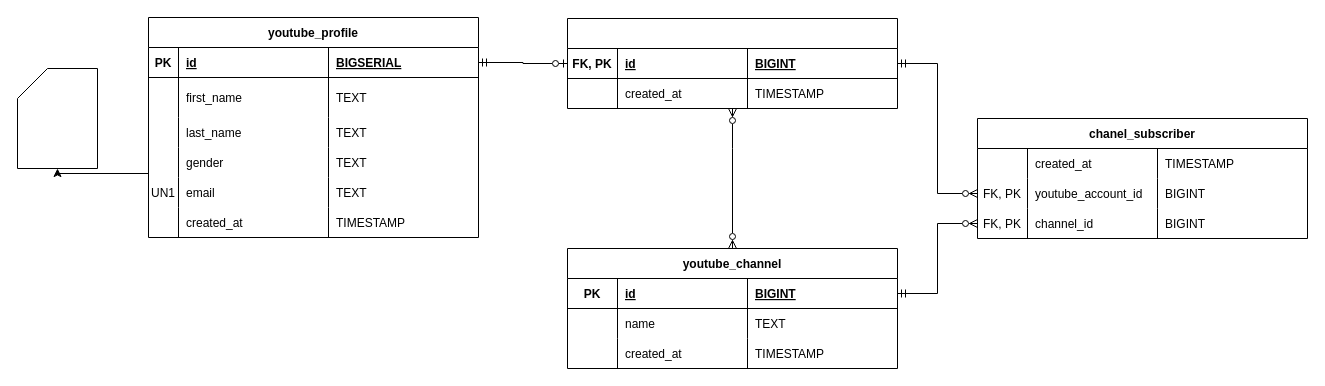
This 1325x386 diagram has some shape labels left out. The box of each missing label's shape, as (x1, y1, x2, y2) in pixels:
MALE FEMALE: (16, 68, 98, 168)
youtube_account: (566, 18, 898, 108)
